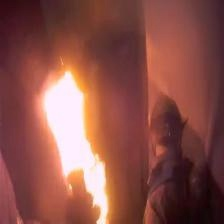fire: (46, 69, 100, 166)
